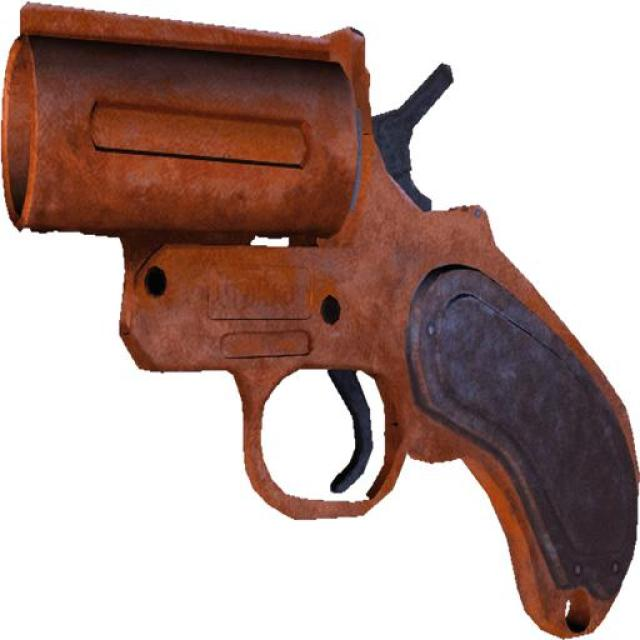pistol: (5, 1, 630, 635)
